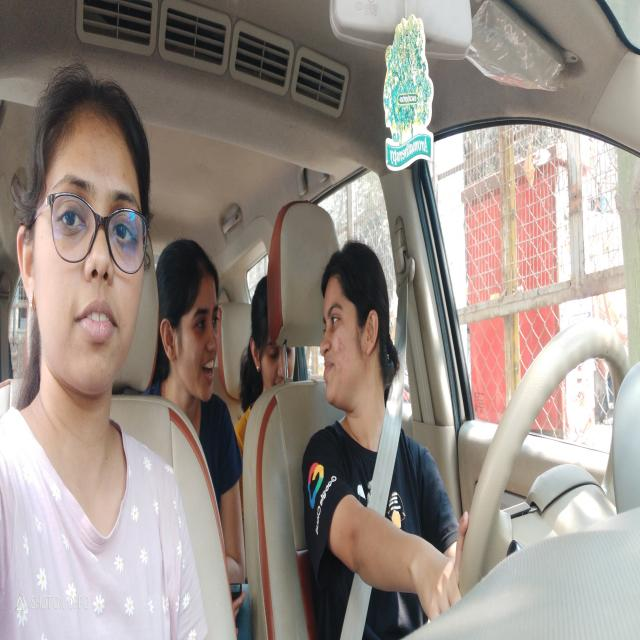LeftRight: (320, 236, 392, 414)
person: (13, 56, 147, 400), (157, 235, 220, 403), (250, 266, 297, 391)
